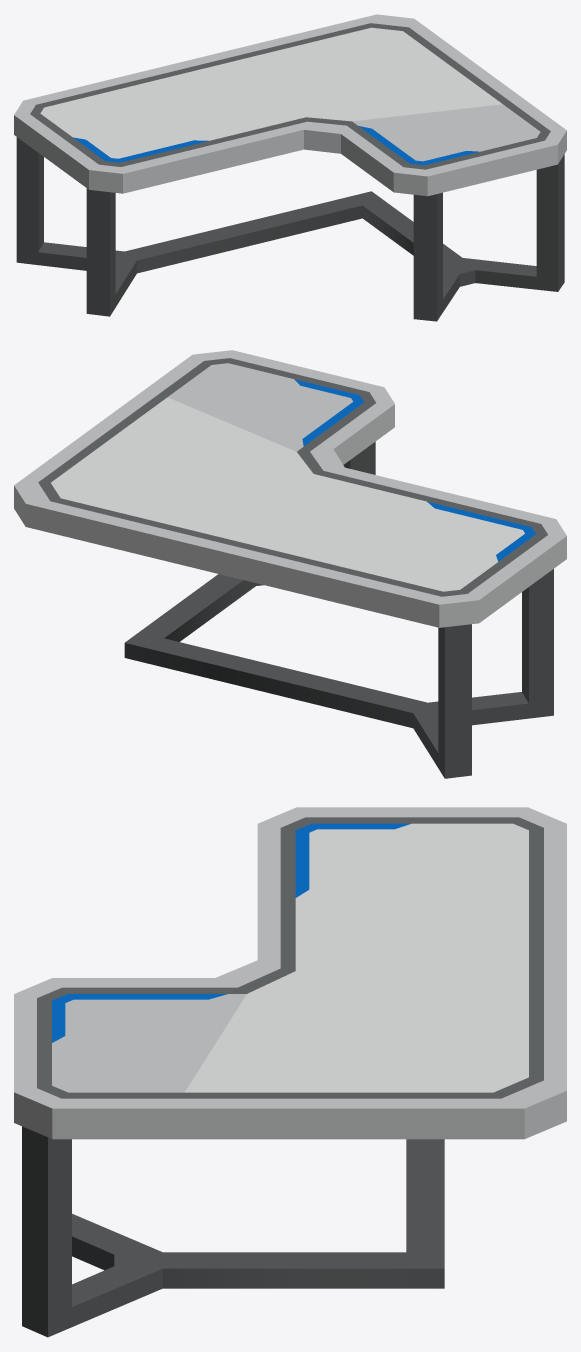
The model's file is Desk_027.fbx.
3 renders of one model, top to bottom at view 1: azimuth 30°, elevation 25°; view 2: azimuth 150°, elevation 25°; view 3: azimuth 270°, elevation 25°, orthographic. The views are drawn at different scales.
Visible parts, largest first — view 1: Desk_027; view 2: Desk_027; view 3: Desk_027.
Boxes of the visible parts, x1=… form: Desk_027: x1=14, y1=14, x2=566, y2=321; Desk_027: x1=14, y1=350, x2=566, y2=778; Desk_027: x1=14, y1=807, x2=566, y2=1337.
Bounding box in the file's own units: 223 × 173 × 80.17.
